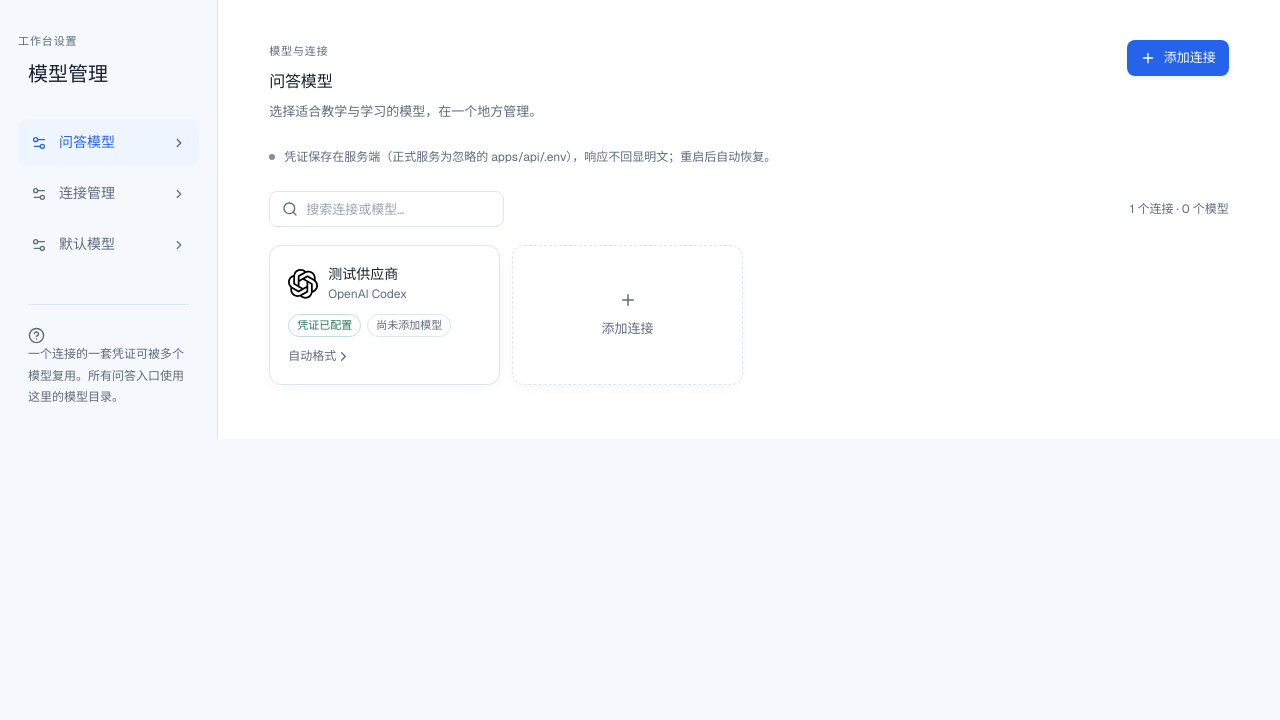
Test: 模型管理 › 发现无列表接口时说明需手工添加，不冒充成功
Click the button with aria-label "打开 测试供应商 的详情" at {"x": 385, "y": 315}, box 269,245 -> 500,385
(page scrolled)
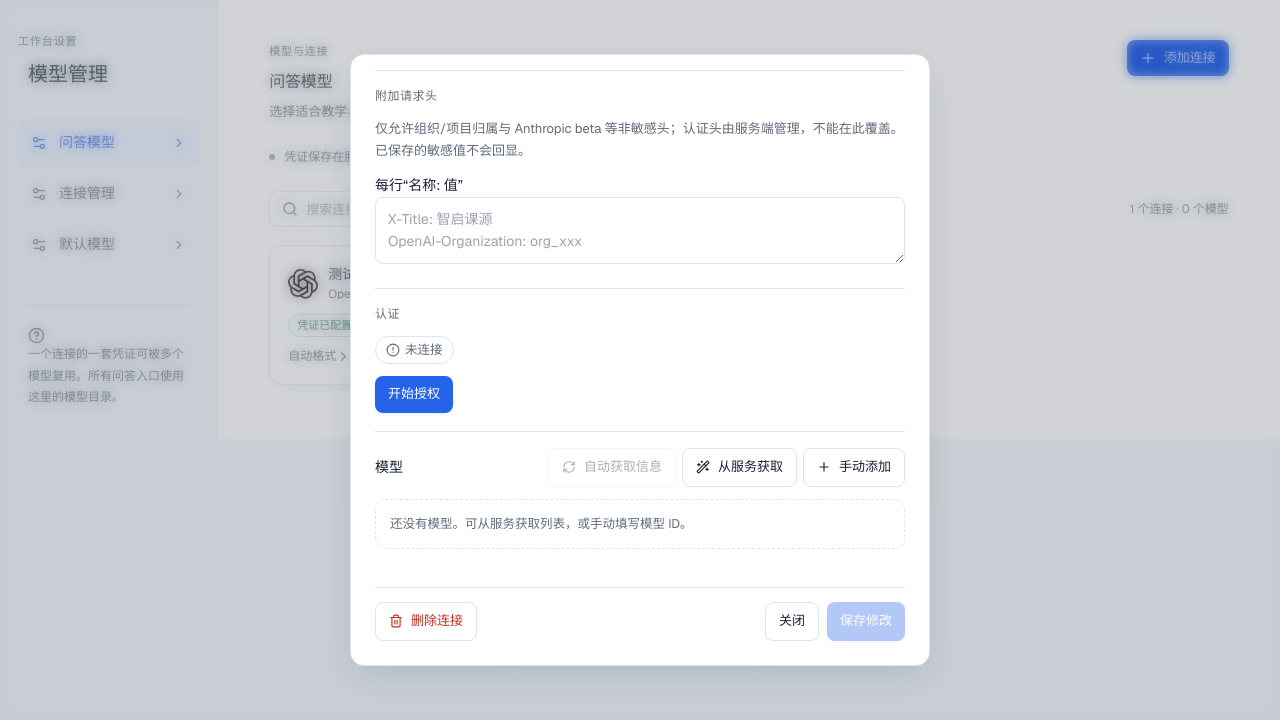
Click the button "从服务获取" at {"x": 740, "y": 467}, box 682,448 -> 797,487
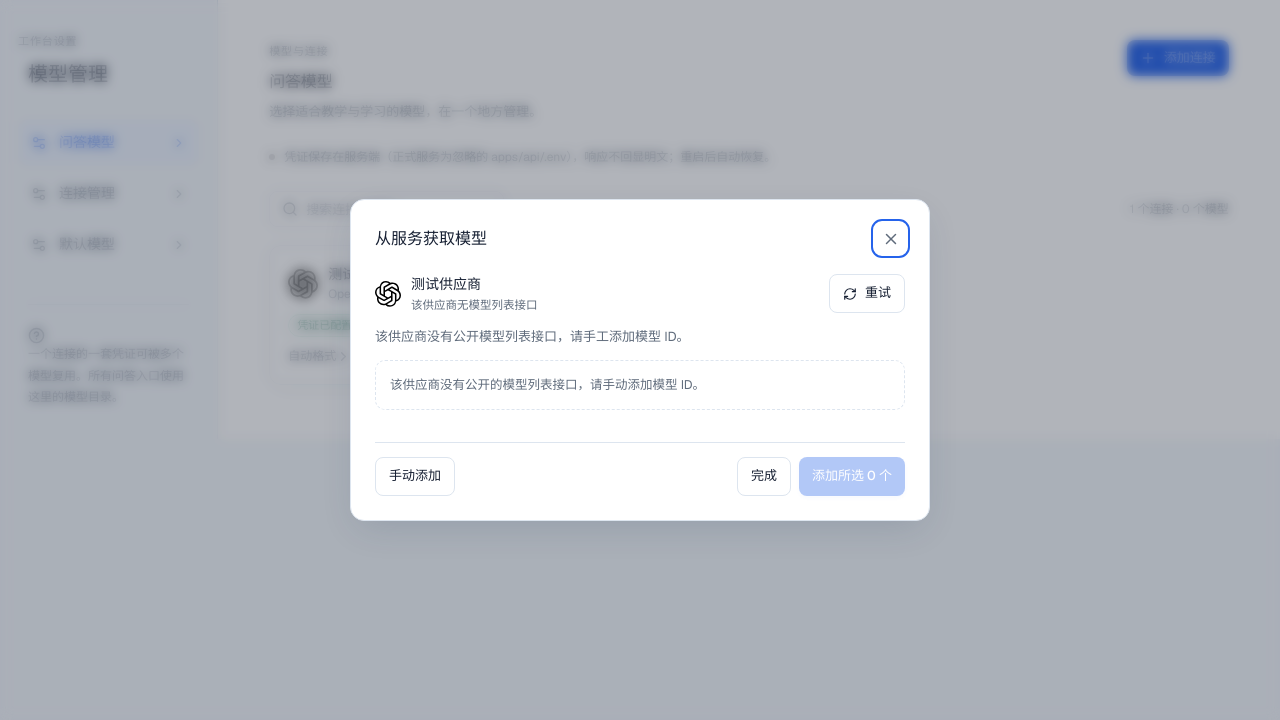
Expected: the text "该供应商没有公开的模型列表接口，请手动添加模型 ID。" is shown, 375,360 -> 905,410
